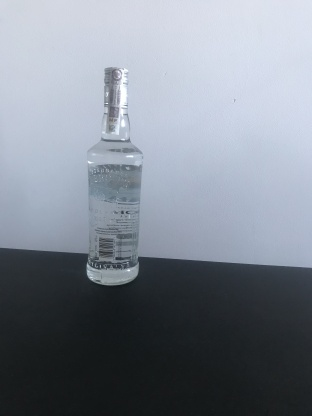nakretka: (101, 64, 130, 111)
